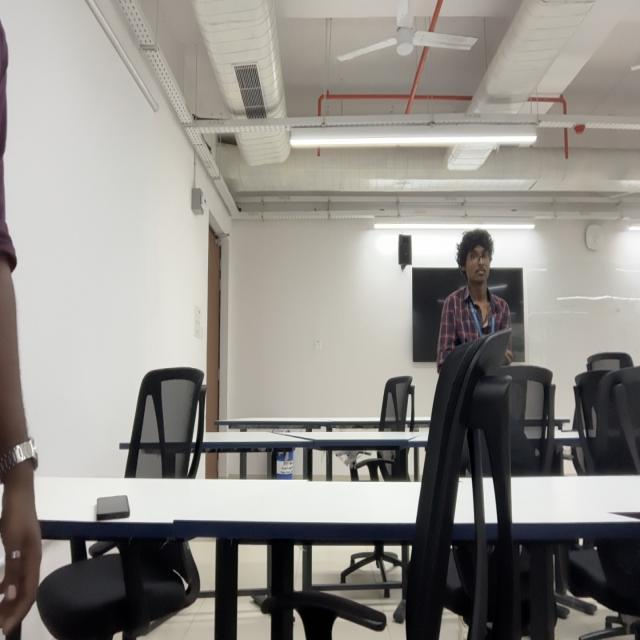darshan: (456, 224, 500, 290)
